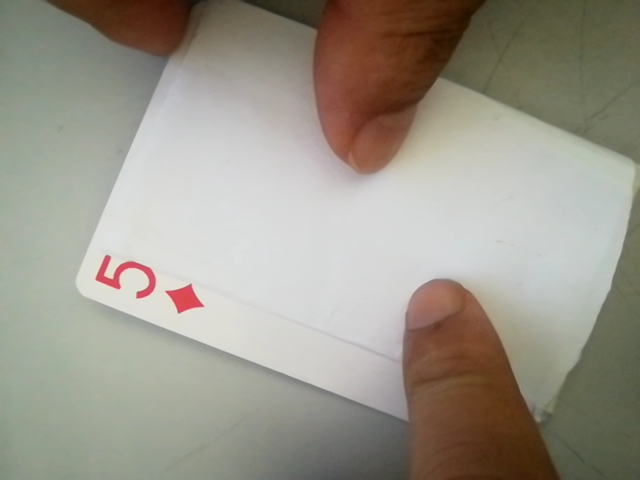fk 5: (82, 249, 211, 321)
